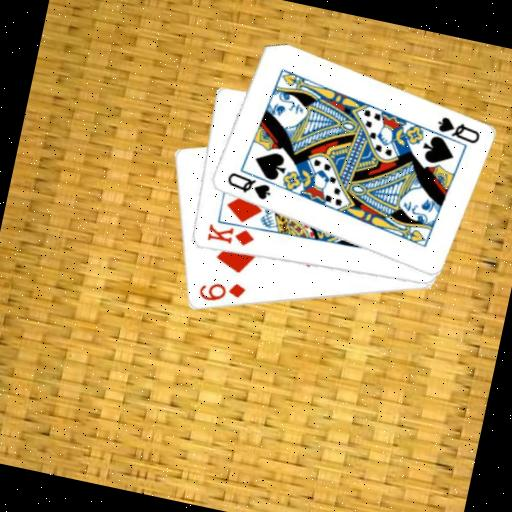6D: (193, 273, 248, 310)
KD: (202, 218, 257, 251)
QS: (220, 168, 274, 203), (431, 111, 484, 146)
